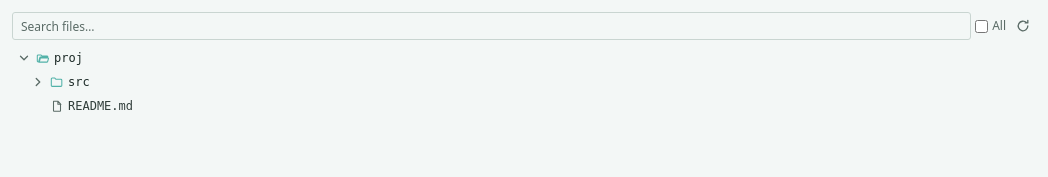
Test: FileTree › 收起再展开已加载的目录不重复请求（子层缓存）
Click the button "src": (38, 82) [26, 72, 1012, 92]
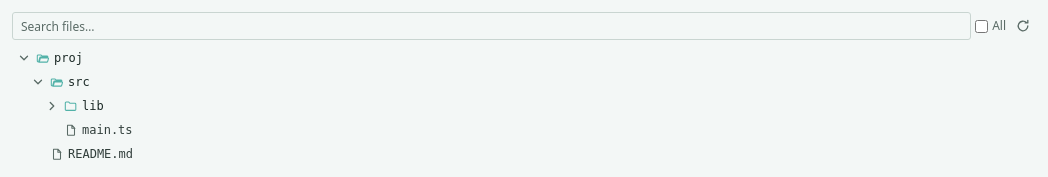
Check: the text "main.ts" is shown, box [82, 122, 133, 138]
Click the button "src": (38, 82) [26, 72, 1012, 92]
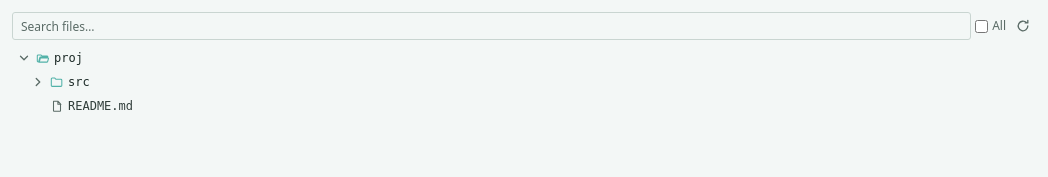
Check: the button "main.ts" is gone
Click the button "src": (38, 82) [26, 72, 1012, 92]
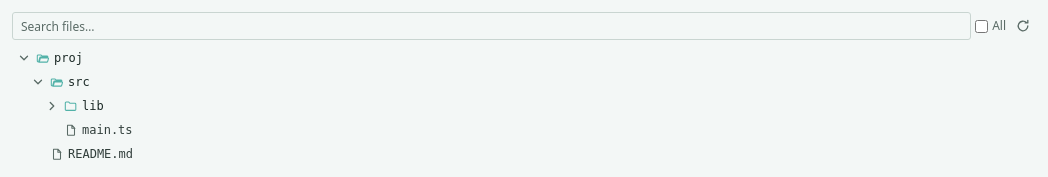
Check: the text "main.ts" is shown, box [82, 122, 133, 138]
